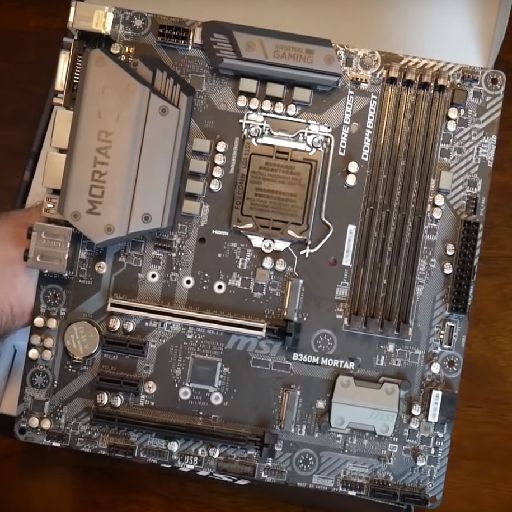CPU: (228, 132, 326, 255)
GPU: (105, 294, 300, 353), (89, 400, 280, 458)
MOTHERBOARD: (12, 3, 500, 506)
RAM: (342, 64, 450, 340)
SSD: (274, 384, 303, 438), (282, 275, 305, 320)
